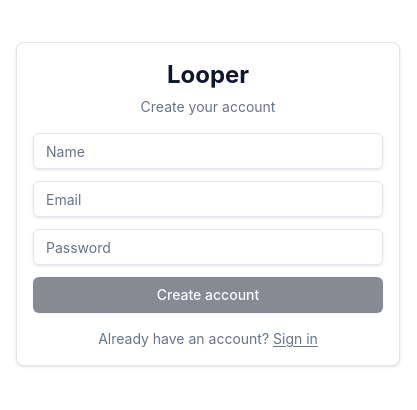
<RegisterPage /> › displays server error
The width and height of the screenshot is (417, 410).
Type "A" into the field with placeholder "Name" at (208, 151), box [33, 133, 383, 169]
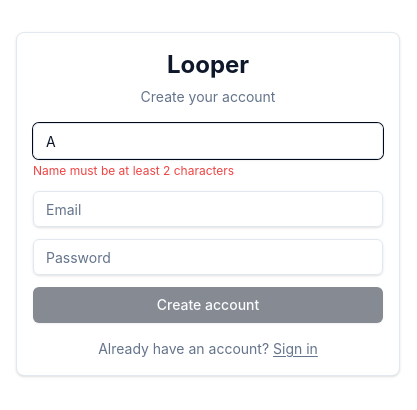
Type "a@b.co" into the field with placeholder "Email" at (208, 209), box [33, 191, 383, 227]
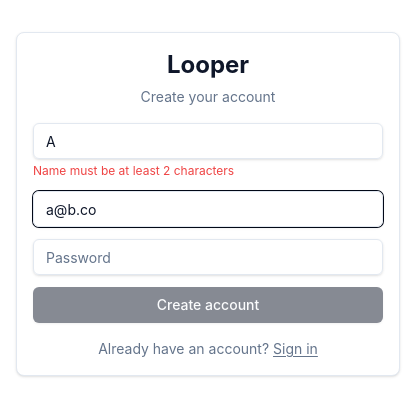
Type "pw12345" into the password field with placeholder "Password" at (208, 257), box [33, 239, 383, 275]
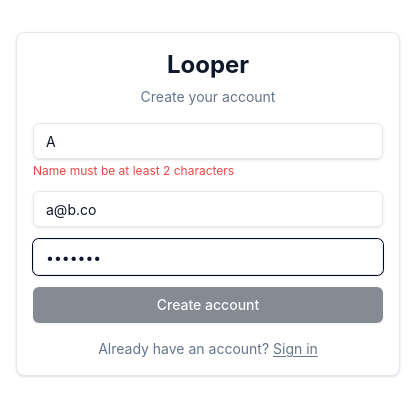
Click the button "Create account" at (208, 305), box [33, 287, 383, 323]
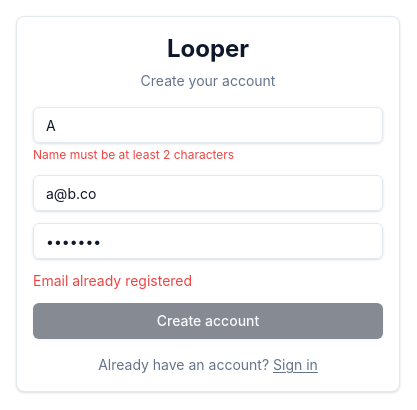
Result: the message shows "already" at [33, 272, 192, 289]
